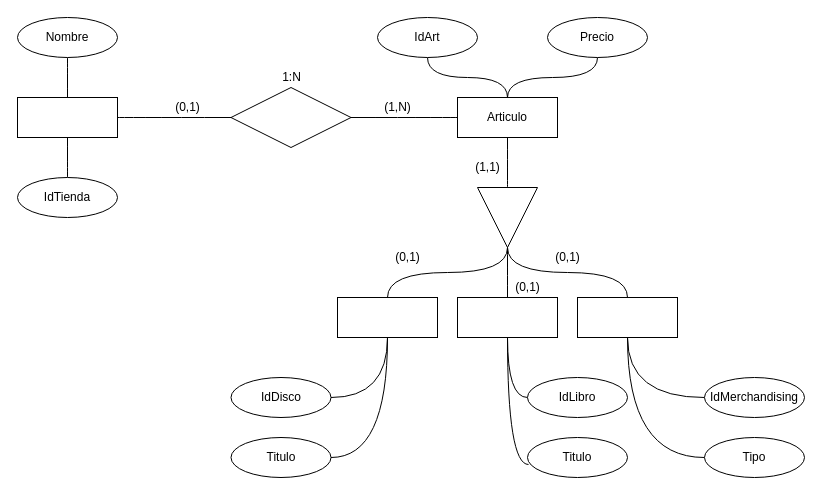
This 822x495 diagram has some shape labels left out. Here are the shapes that lost their labels. From the top down, the box of each, then its label:
(16, 96, 118, 138): Tienda
(230, 86, 351, 148): Tiene
(476, 186, 538, 248): Es
(336, 296, 438, 338): Disco
(456, 296, 558, 338): Libro
(576, 296, 678, 338): Merchandising
